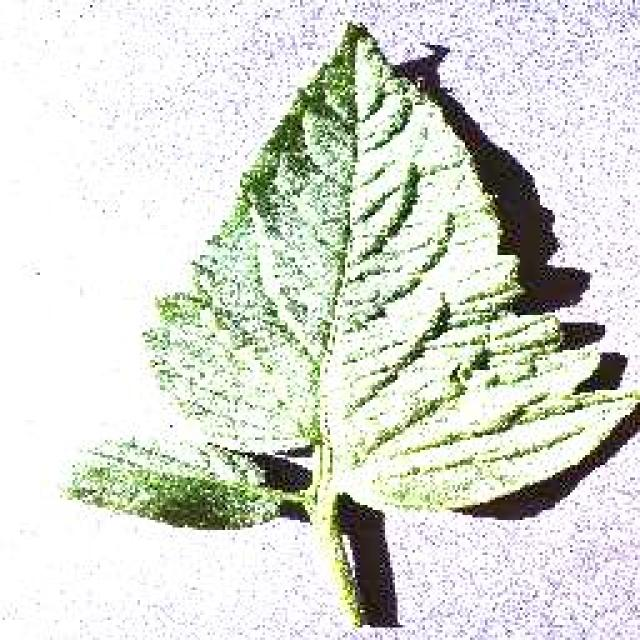Tomato___healthy: (63, 16, 638, 635)
